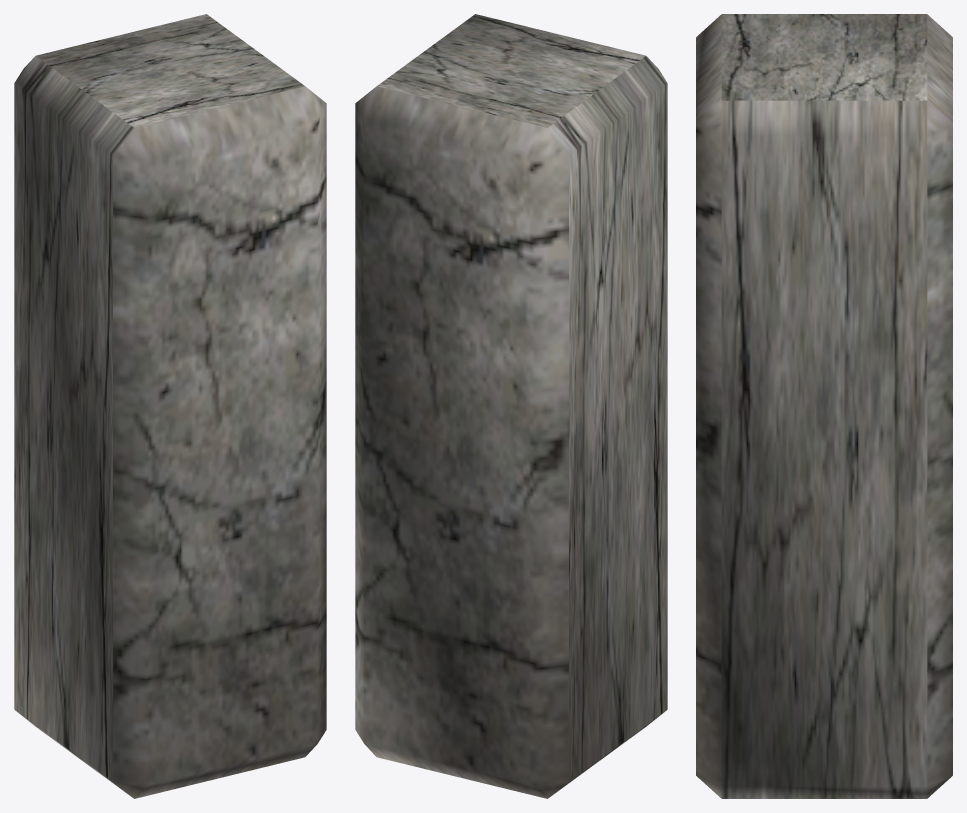
File: BLOCK04.fbx
3 views of the same model, side by side, from view 1: azimuth 30°, elevation 25°; view 2: azimuth 150°, elevation 25°; view 3: azimuth 270°, elevation 25° (orthographic). The views are drawn at different scales.
Visible parts, largest first — view 1: BLOCK04; view 2: BLOCK04; view 3: BLOCK04.
Part boxes in pixels (<box>): BLOCK04: <box>14,14,326,798</box>; BLOCK04: <box>355,14,667,798</box>; BLOCK04: <box>696,14,952,798</box>.
Size of the model in its own units: 10000 by 30000 by 10000.
Materials: 1 (1 with a texture image).
